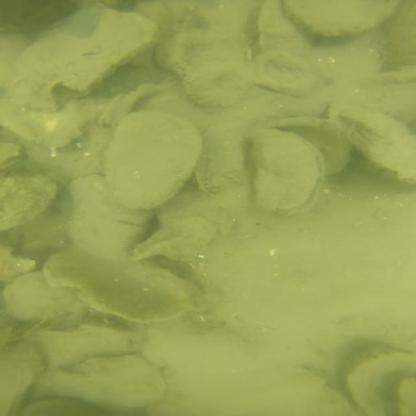3: (84, 256, 195, 321), (344, 353, 416, 416)
Oyster-Closed: (10, 11, 157, 110), (335, 110, 414, 183), (156, 27, 247, 74), (0, 172, 56, 230)
Oyster-Open: (106, 111, 201, 210), (60, 176, 146, 261), (38, 356, 167, 411), (252, 129, 318, 214), (38, 325, 140, 366), (283, 0, 399, 36), (1, 271, 85, 318), (184, 62, 251, 107), (250, 52, 315, 94), (5, 343, 40, 413), (259, 3, 307, 51), (21, 397, 105, 415)
